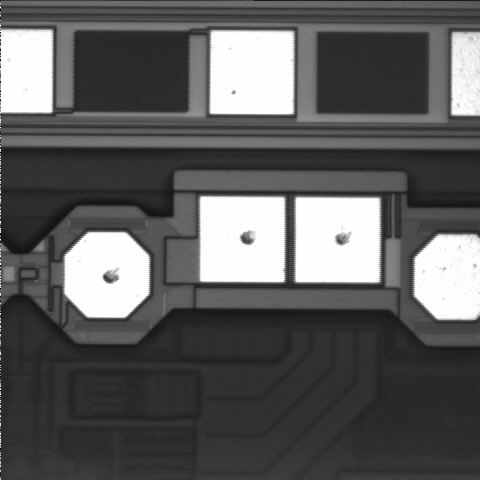pad: (200, 197, 285, 282), (65, 232, 149, 318), (296, 197, 380, 282), (210, 31, 294, 114)
